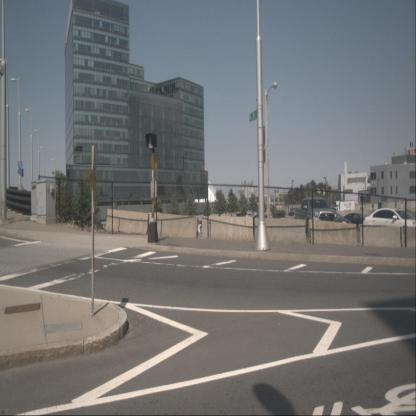barrier: (254, 216, 307, 244), (201, 216, 254, 243), (307, 219, 358, 247), (152, 212, 198, 239), (105, 208, 150, 235), (358, 224, 405, 248), (406, 225, 416, 249)
